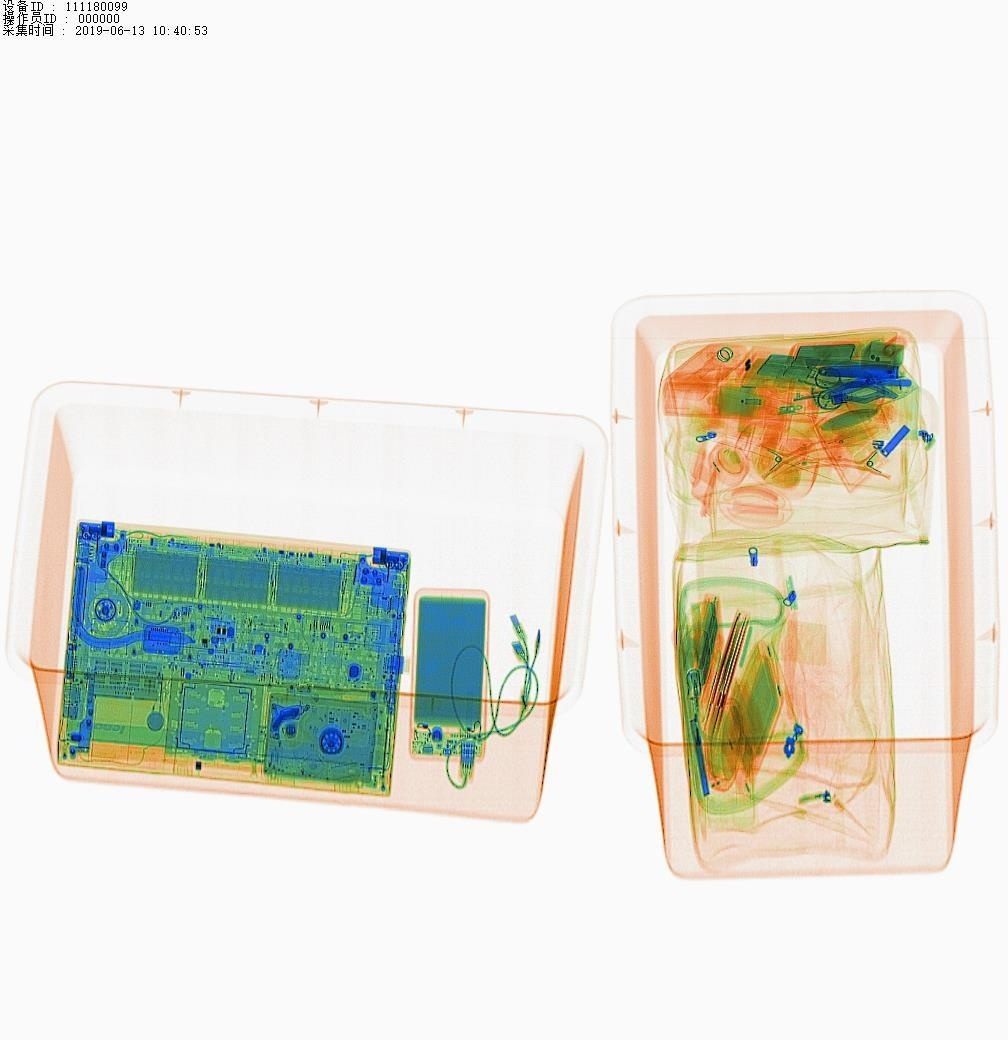NonmetallicFire: (680, 667, 716, 778)
